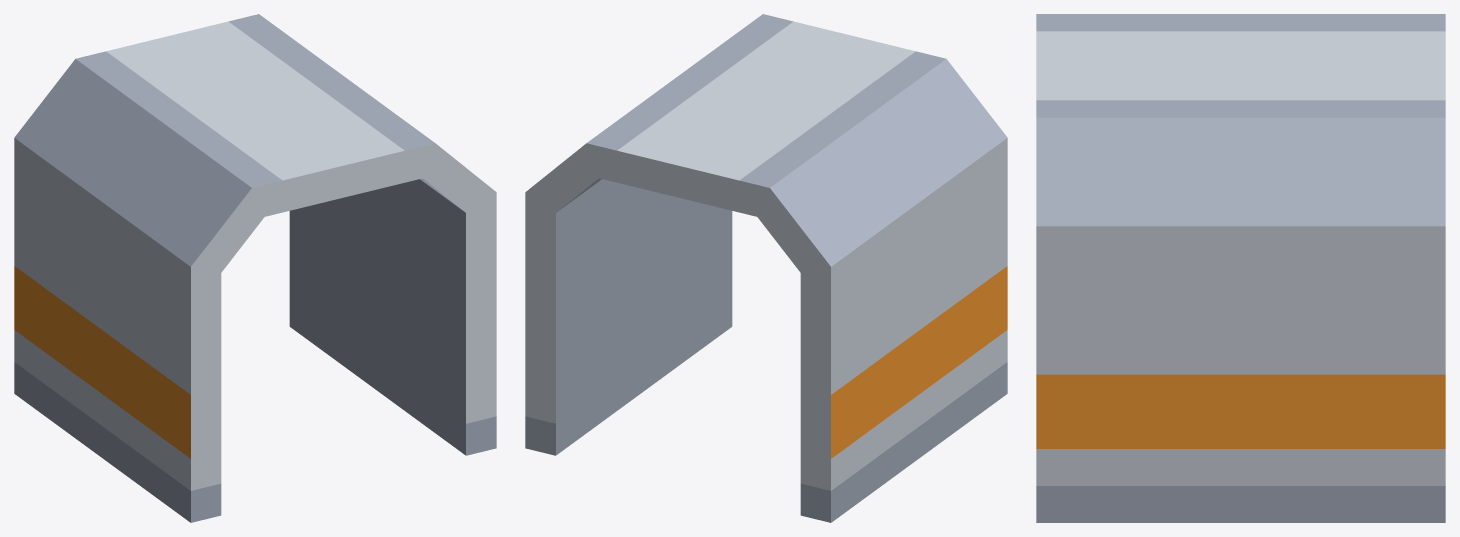
Rendered from corridor.glb.
The picture shows the model from 3 angles, left to right: view 1: azimuth 30°, elevation 25°; view 2: azimuth 150°, elevation 25°; view 3: azimuth 270°, elevation 25°; orthographic projection. The views are drawn at different scales.
Parts seen in each view (by area): view 1: corridor; view 2: corridor; view 3: corridor.
Part boxes in pixels (<box>): corridor: <box>14,14,496,522</box>; corridor: <box>525,14,1007,522</box>; corridor: <box>1036,14,1445,522</box>.
Bounding box in the file's own units: 1 × 1 × 1.
